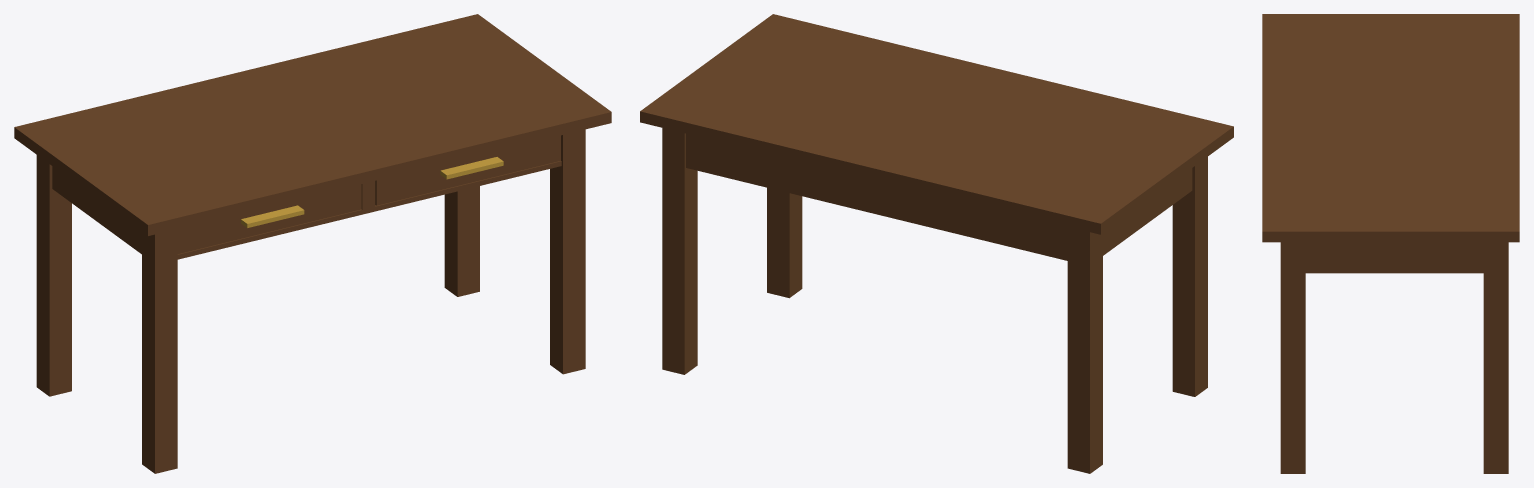
Rendered from preview.glb.
3 renders of one model, left to right at view 1: azimuth 30°, elevation 25°; view 2: azimuth 150°, elevation 25°; view 3: azimuth 270°, elevation 25°, orthographic. The views are drawn at different scales.
Parts seen in each view (by area): view 1: Platte, Bein_vorne_links, Bein_vorne_rechts, Bein_hinten_links, Schubfront_rechts, Schubfront_links, Bein_hinten_rechts, Frontleiste, Zarge_links, Griff_links, Griff_rechts; view 2: Platte, Zarge_hinten, Bein_hinten_links, Bein_hinten_rechts, Bein_vorne_links, Bein_vorne_rechts, Zarge_links; view 3: Platte, Bein_vorne_rechts, Bein_hinten_rechts, Zarge_rechts.
Part boxes in pixels (box(x1,y1,x2,y2)): Platte: box(14, 14, 611, 235); Bein_vorne_links: box(142, 229, 177, 473); Bein_vorne_rechts: box(550, 129, 585, 374); Bein_hinten_links: box(36, 155, 71, 396); Schubfront_rechts: box(375, 135, 560, 205); Schubfront_links: box(177, 184, 361, 253); Bein_hinten_rechts: box(444, 186, 479, 296); Frontleiste: box(177, 161, 561, 259); Zarge_links: box(52, 166, 141, 254); Griff_links: box(241, 205, 304, 227); Griff_rechts: box(440, 157, 503, 179); Platte: box(640, 14, 1233, 234); Zarge_hinten: box(686, 133, 1067, 260); Bein_hinten_links: box(1067, 227, 1102, 473); Bein_hinten_rechts: box(662, 128, 697, 374); Bein_vorne_links: box(1172, 156, 1207, 396); Bein_vorne_rechts: box(767, 187, 802, 298); Zarge_links: box(1103, 168, 1192, 255); Platte: box(1262, 14, 1519, 242); Bein_vorne_rechts: box(1280, 242, 1305, 473); Bein_hinten_rechts: box(1483, 242, 1508, 473); Zarge_rechts: box(1305, 242, 1483, 273).
Bounding box in the file's own units: 1.4 × 0.75 × 0.7.
